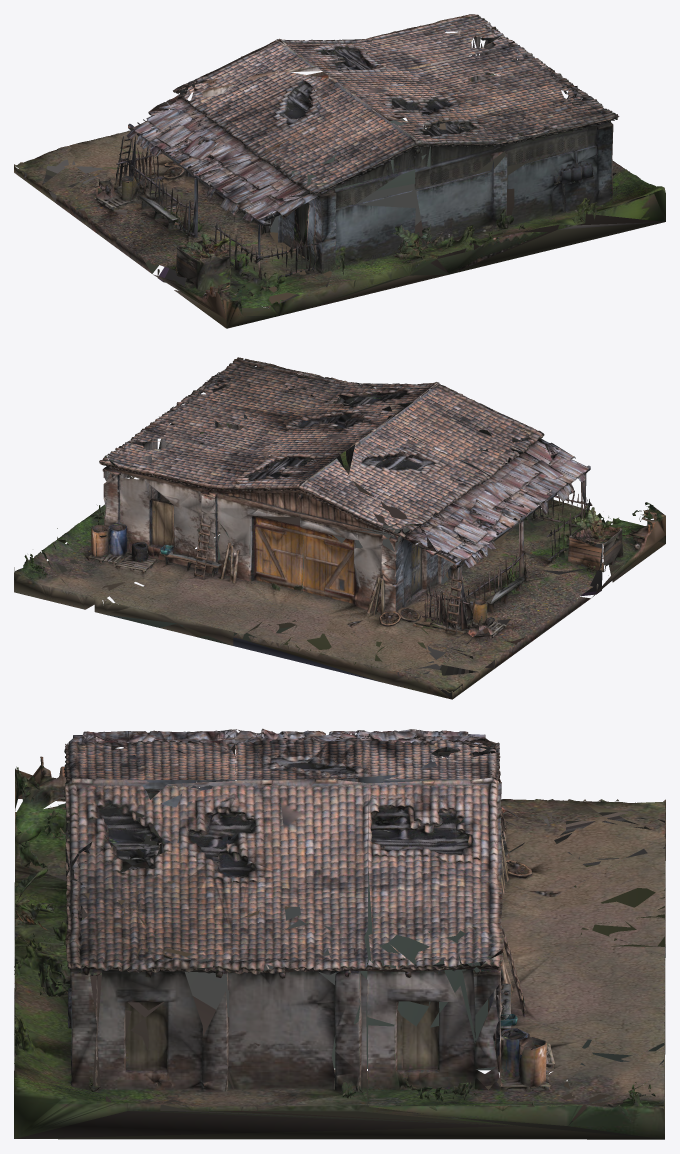
The model's file is car_barn.glb.
3 views of the same model, one above another, from view 1: azimuth 30°, elevation 25°; view 2: azimuth 150°, elevation 25°; view 3: azimuth 270°, elevation 25° (orthographic). The views are drawn at different scales.
Parts seen in each view (by area): view 1: Object_12, Object_6, Object_7, Object_4, Object_11, Object_8, Object_13, Object_3, Object_9, Object_5, Object_10; view 2: Object_10, Object_3, Object_9, Object_4, Object_13, Object_8, Object_12, Object_6, Object_11, Object_5, Object_7; view 3: Object_7, Object_9, Object_13, Object_6, Object_10, Object_3, Object_11, Object_12, Object_8, Object_4, Object_5.
Boxes of the visible parts, x1,y1,x2,y2 form: Object_12: (158, 45, 558, 328); Object_6: (167, 71, 665, 274); Object_7: (414, 59, 665, 274); Object_4: (14, 132, 339, 307); Object_11: (205, 14, 519, 319); Object_8: (153, 109, 580, 319); Object_13: (323, 52, 600, 130); Object_3: (15, 40, 314, 273); Object_9: (157, 17, 513, 314); Object_5: (124, 40, 278, 192); Object_10: (101, 22, 496, 232); Object_10: (14, 452, 453, 682); Object_3: (245, 458, 590, 699); Object_9: (41, 431, 649, 645); Object_4: (248, 520, 592, 699); Object_13: (161, 373, 403, 459); Object_8: (287, 374, 665, 597); Object_12: (142, 397, 665, 585); Object_6: (101, 377, 490, 560); Object_11: (61, 382, 665, 608); Object_5: (298, 479, 540, 632); Object_7: (48, 357, 429, 578); Object_7: (14, 834, 664, 1139); Object_9: (15, 767, 665, 1125); Object_13: (126, 779, 368, 1010); Object_6: (14, 739, 515, 1125); Object_10: (182, 865, 665, 1139); Object_3: (237, 738, 665, 946); Object_11: (14, 731, 642, 1120); Object_12: (14, 729, 367, 1027); Object_8: (14, 756, 210, 1042); Object_4: (59, 799, 665, 958); Object_5: (235, 728, 509, 858).
Bounding box in the file's own units: 14.72 × 3.99 × 12.39.
1 material, 1 textured.
